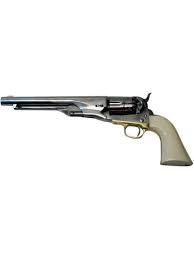gun: (1, 92, 194, 166)
